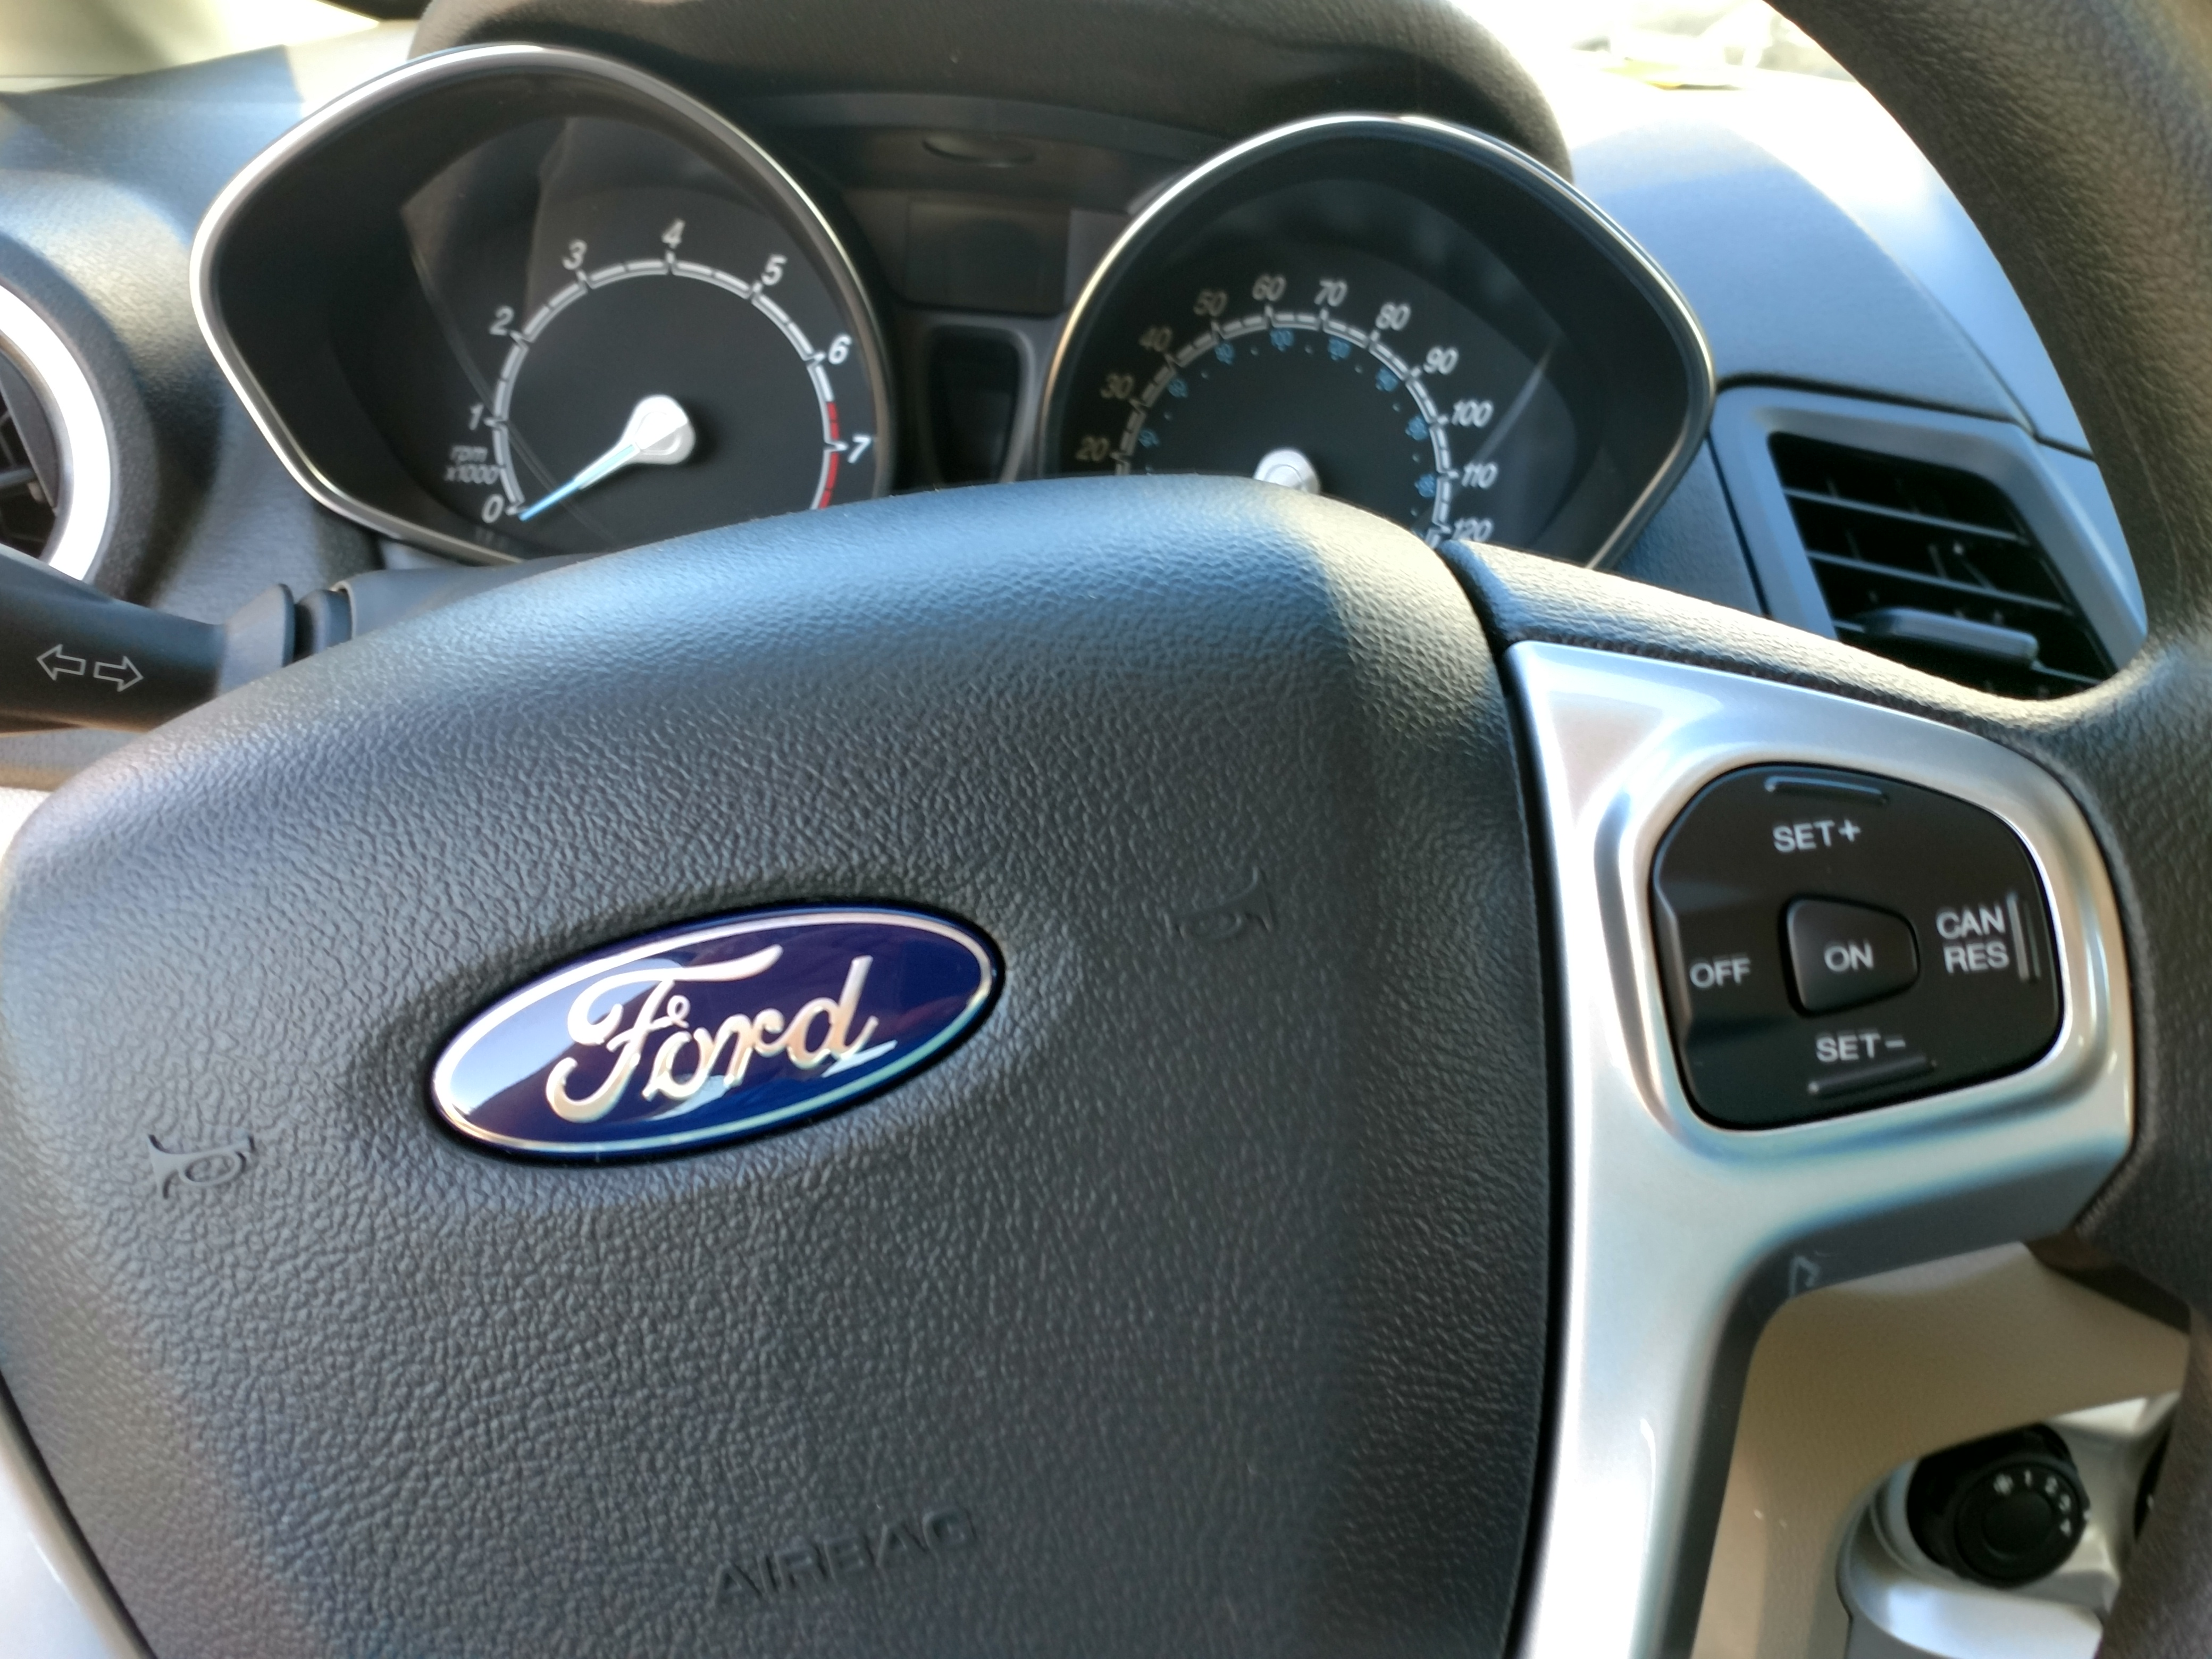Ford: (420, 892, 1021, 1173)
